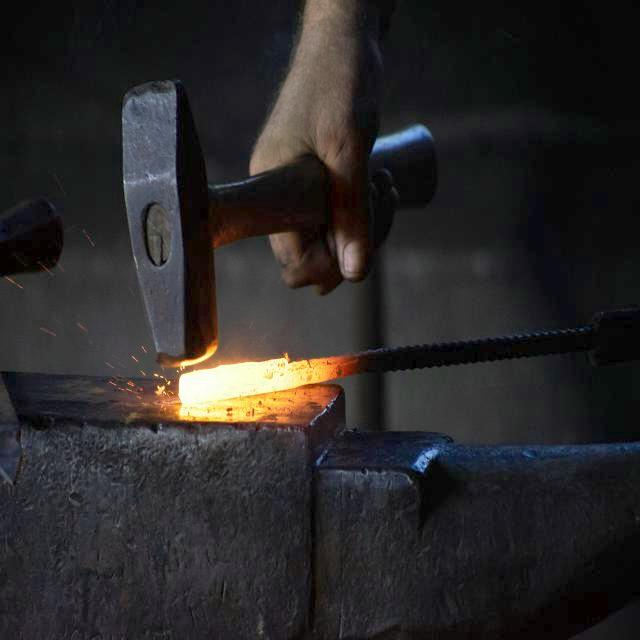hammer: (114, 69, 443, 374)
